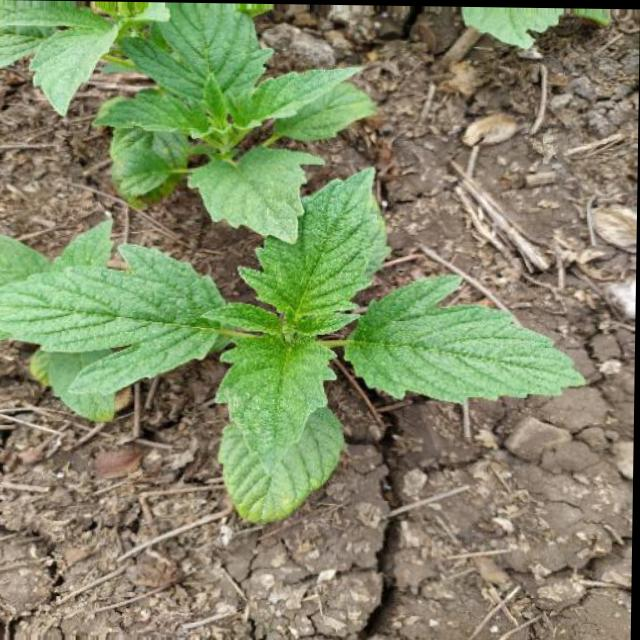crop: (4, 159, 594, 513), (0, 5, 387, 251)
